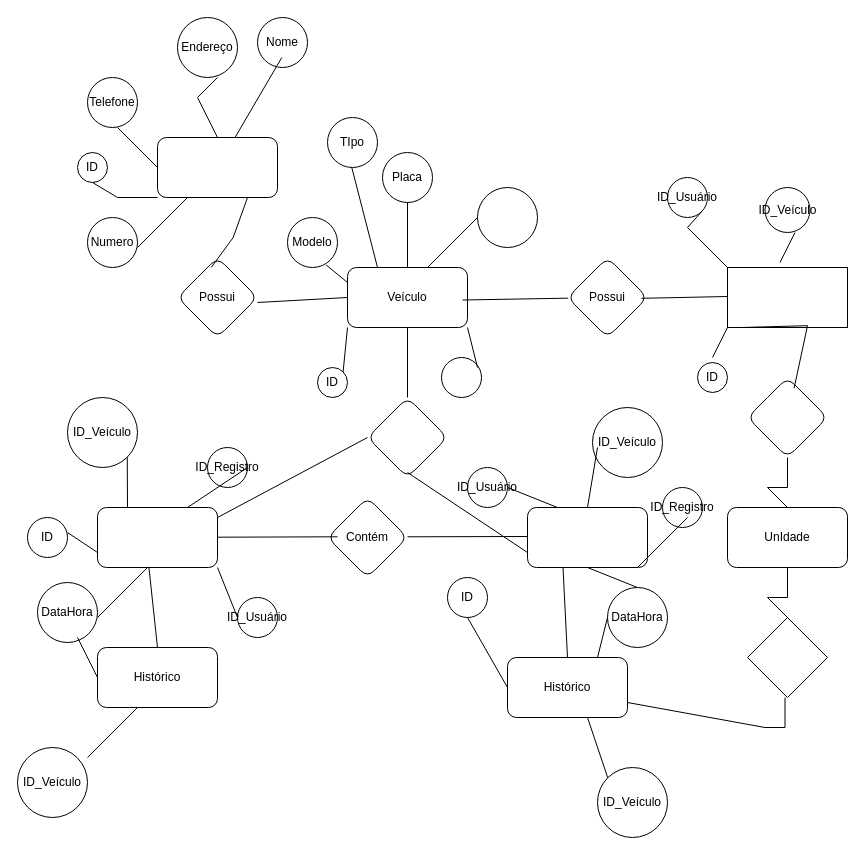
This 865x855 diagram has some shape labels left out. The box of each missing label's shape, as (x1, y1, x2, y2) in pixels:
Acesso: (726, 266, 848, 328)
Contem: (746, 616, 828, 698)
Cor: (440, 356, 482, 398)
Detem: (366, 396, 448, 478)
Detém: (746, 376, 828, 458)
Fabricante: (476, 186, 538, 248)
Registro de Entrada: (526, 506, 648, 568)
Registro de Saída: (96, 506, 218, 568)
Usuário: (156, 136, 278, 198)
